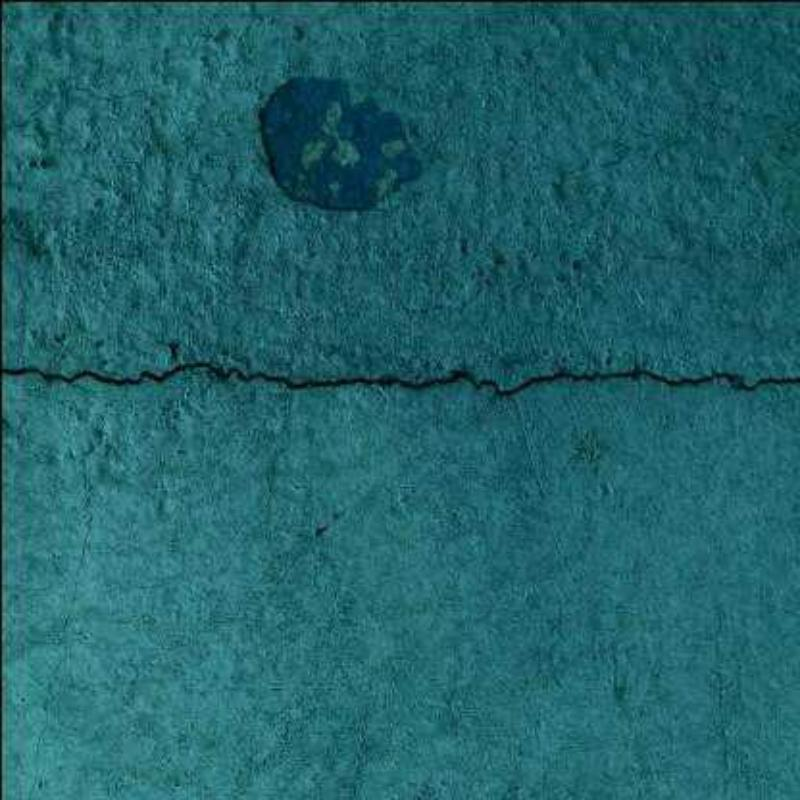pothole: (29, 413, 108, 798), (2, 361, 800, 398), (73, 83, 154, 102), (715, 671, 729, 771)
